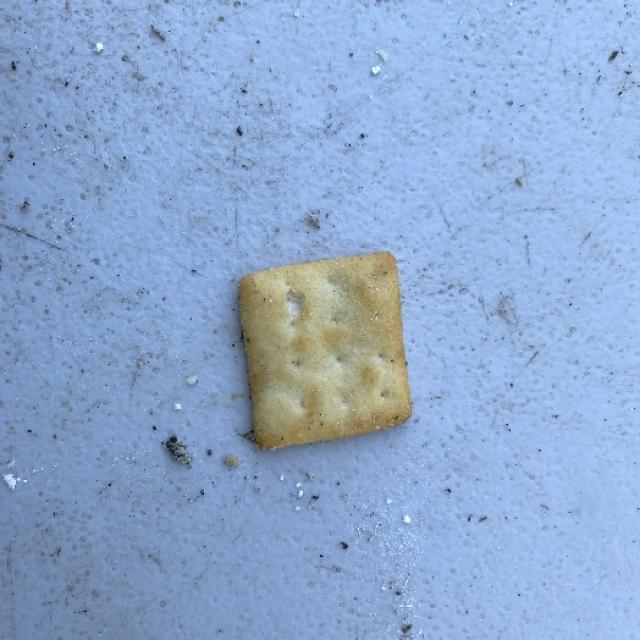organic: (237, 257, 414, 442)
